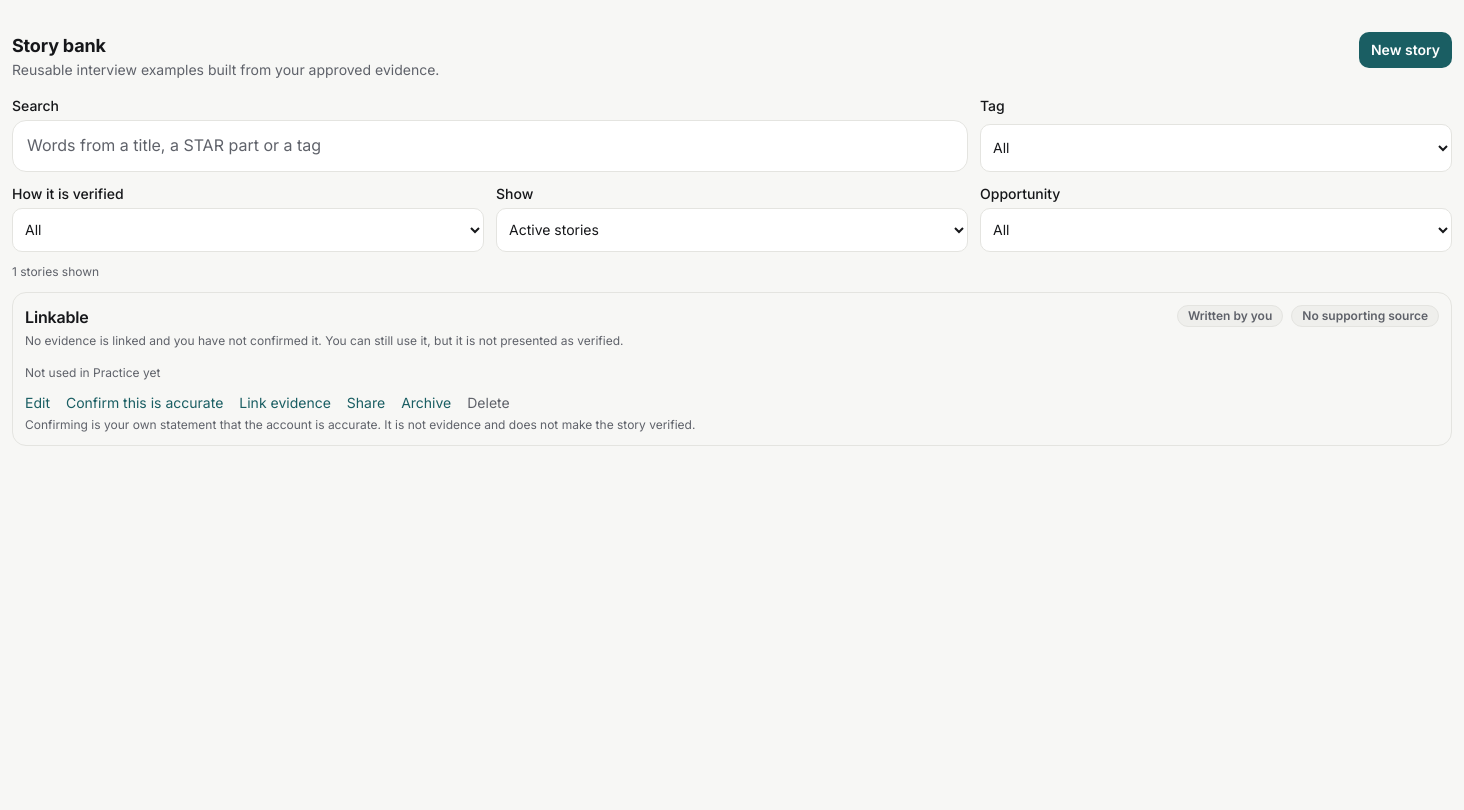
Test: StoryBank: create, edit, search, archive, delete › links a practice answer by question text only
Step 1. Click the button "Link evidence" → (285, 403), box [239,393,331,413]
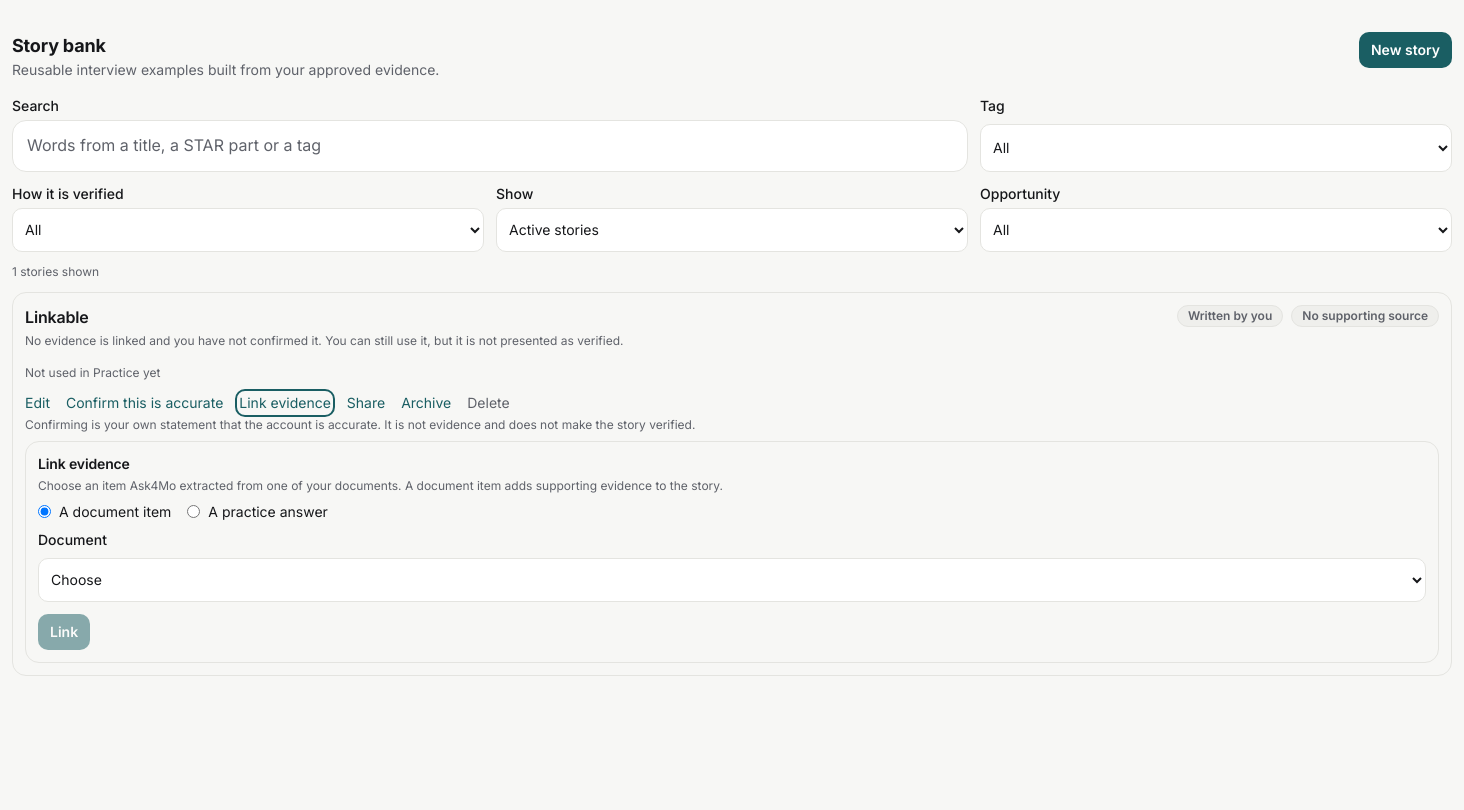
Step 2. Click the radio button labelled "A practice answer" → (194, 512), box [187,505,200,518]
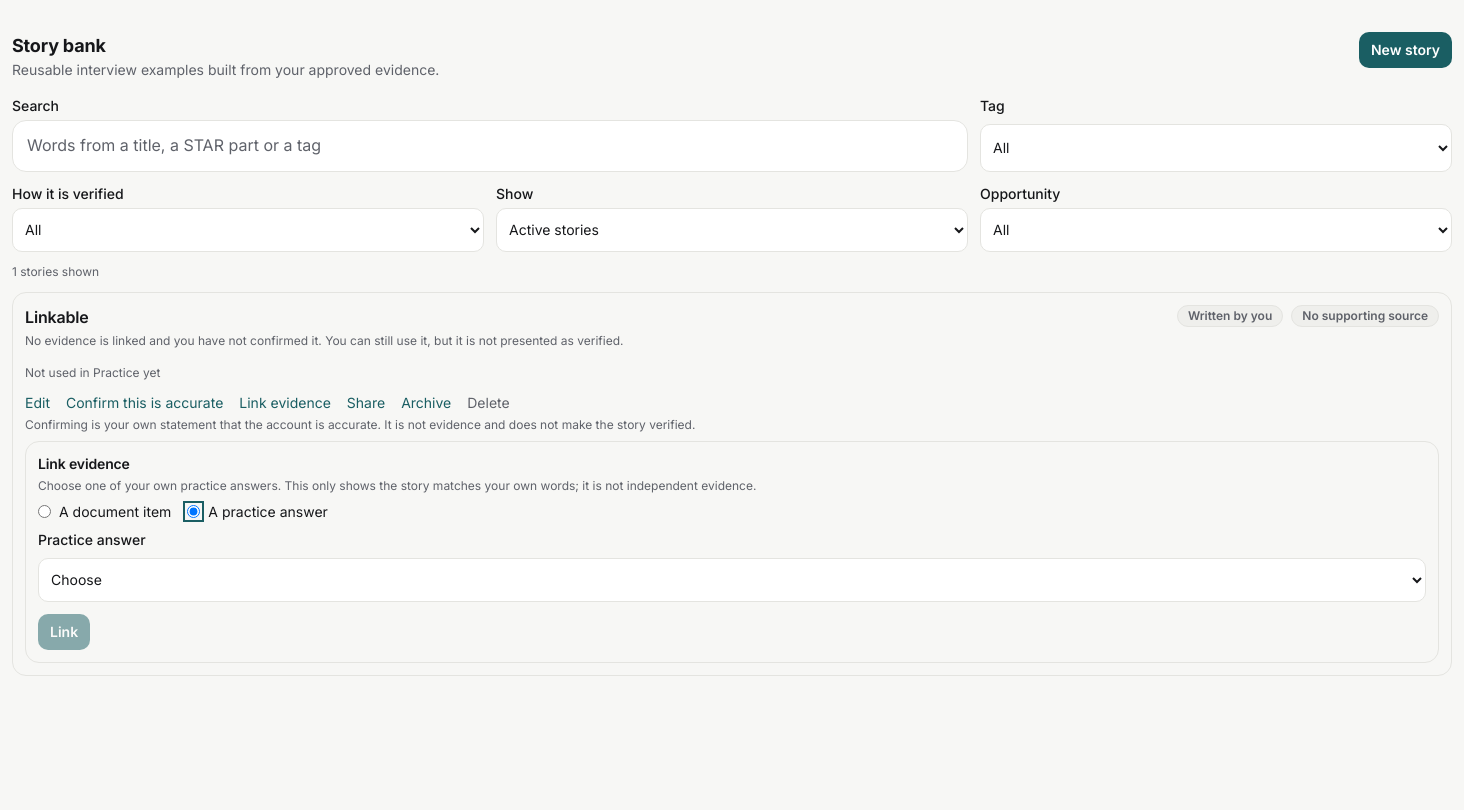
Step 3. Select "Question 1: Tell me about a challenge." in the dropdown labelled "Practice answer" → (732, 580), box [38,558,1426,602]
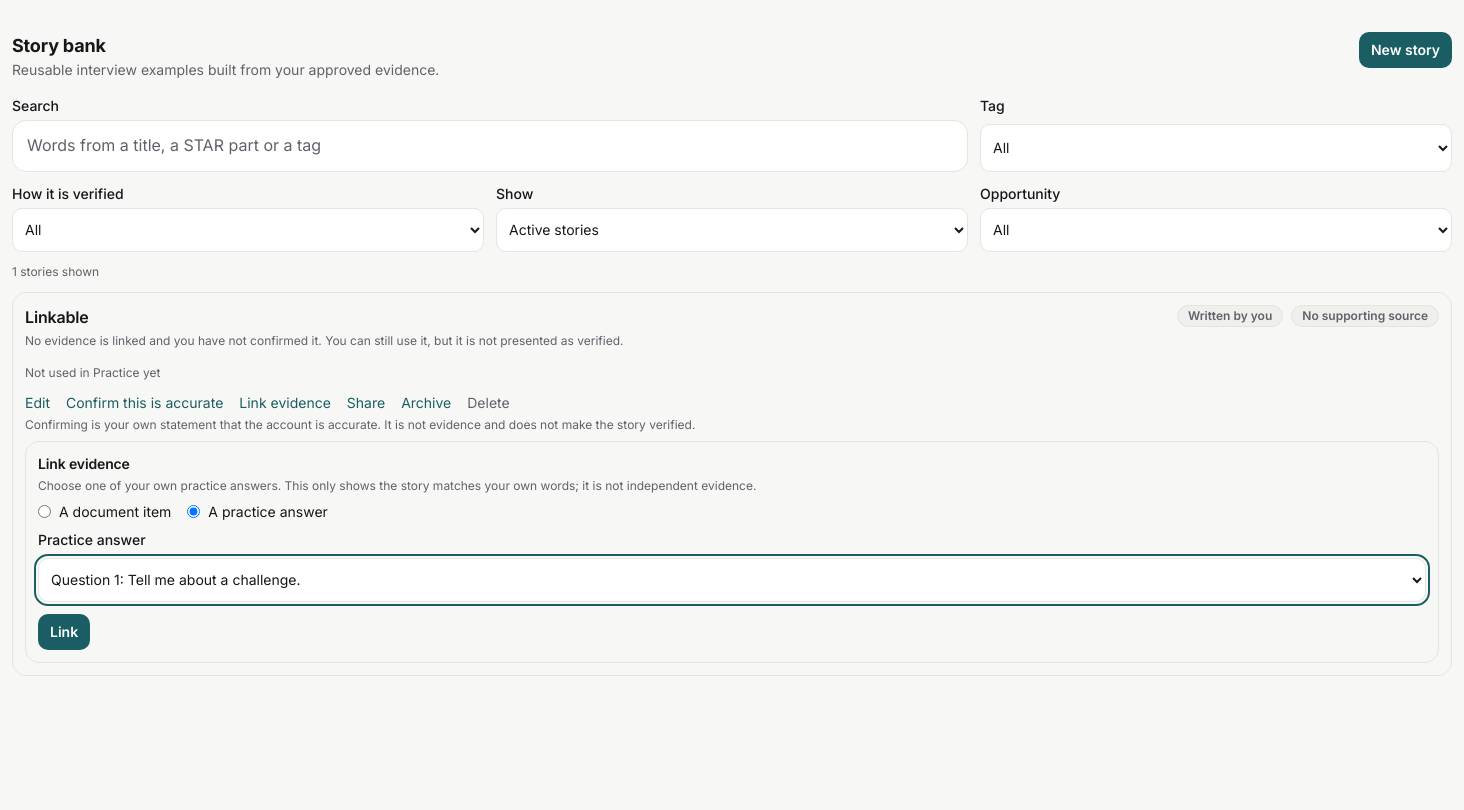
Step 4. Click the button "Link" → (64, 632), box [38,614,90,650]
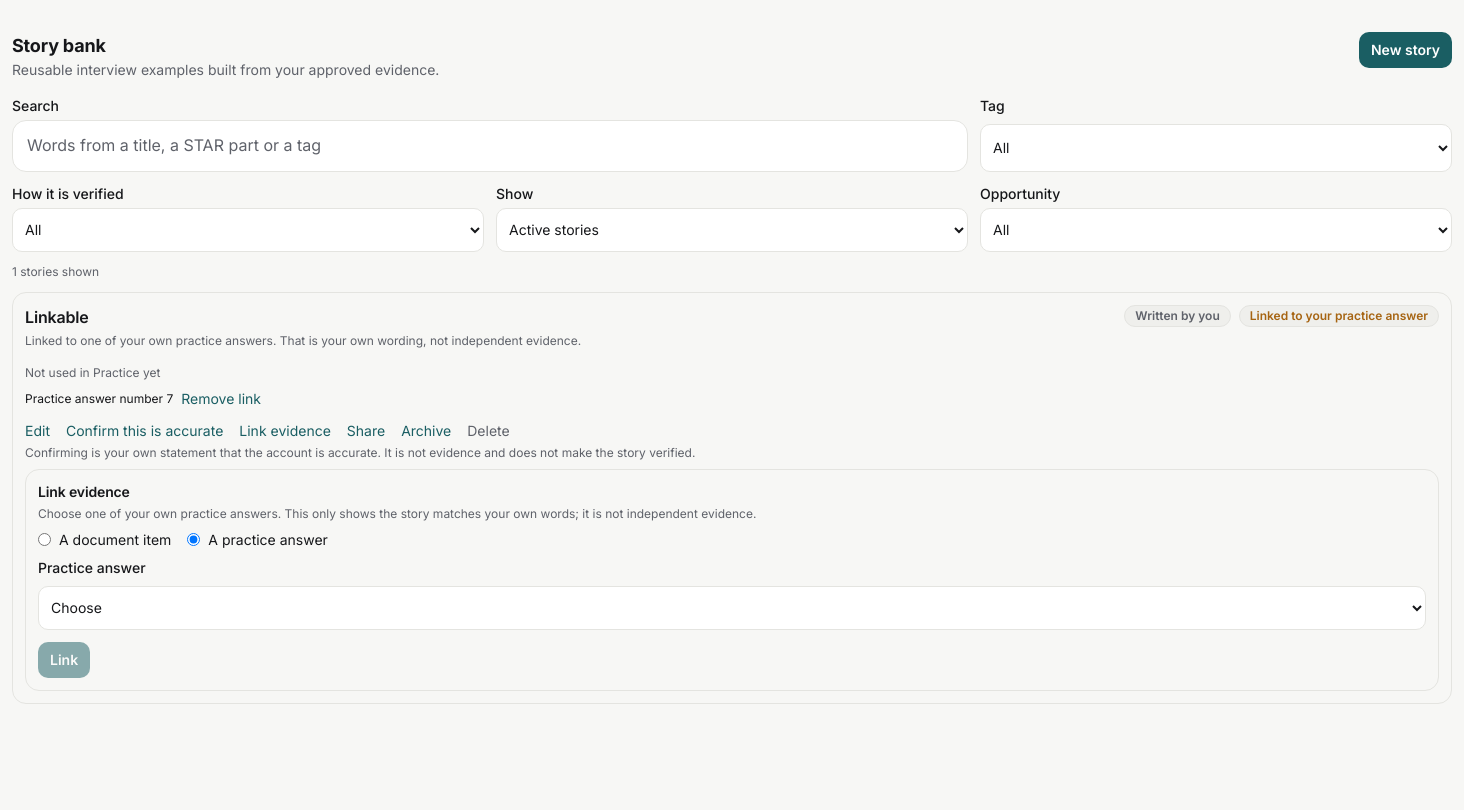
Now the text "Linked to your practice answer" is shown, box [1239,305,1439,327]
